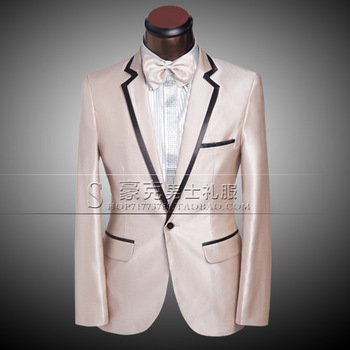F_M_suit jacket: (73, 58, 271, 326)
